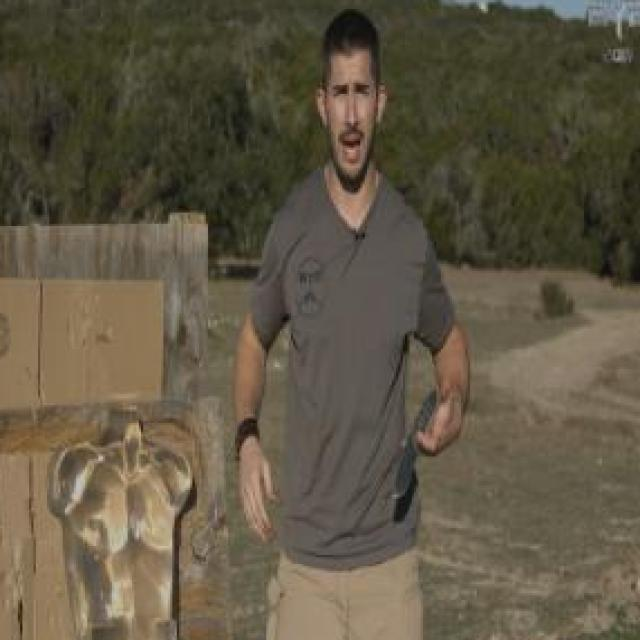knife: (387, 387, 454, 507)
